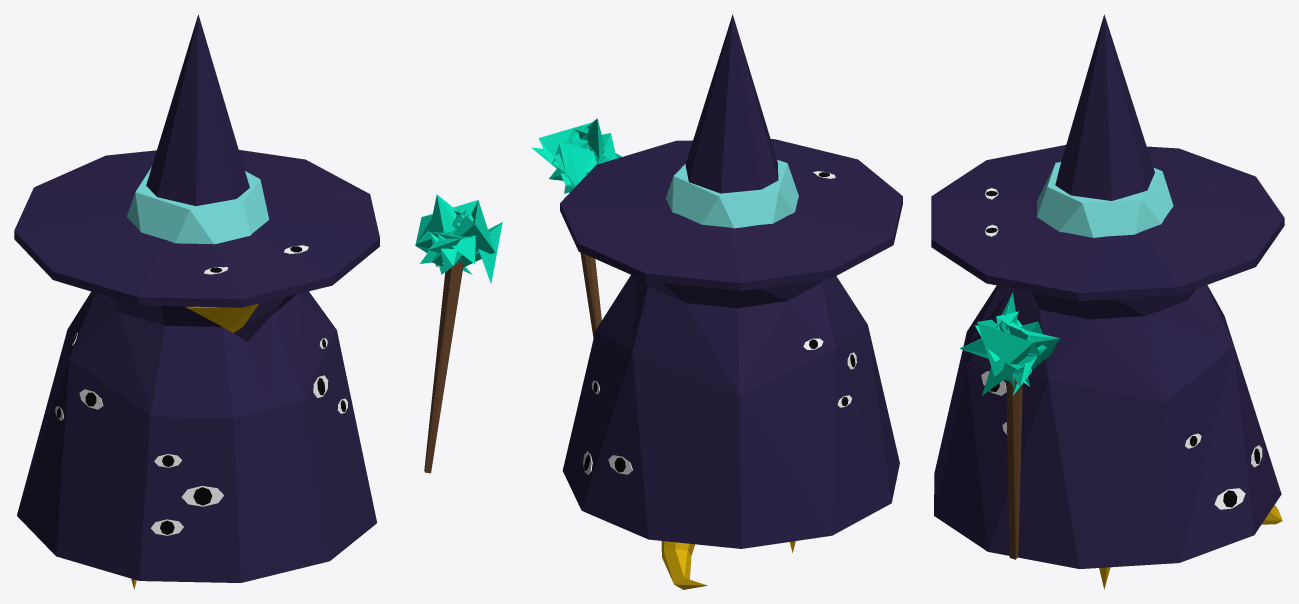
Rendered from Wizard_Final_NoAnim.fbx.
The picture shows the model from 3 angles, left to right: view 1: azimuth 30°, elevation 25°; view 2: azimuth 150°, elevation 25°; view 3: azimuth 270°, elevation 25°; orthographic projection. The views are drawn at different scales.
Parts seen in each view (by area): view 1: Wizard; view 2: Wizard; view 3: Wizard.
Boxes of the visible parts, bbox=[...] form: Wizard: bbox=[14, 14, 502, 589]; Wizard: bbox=[531, 14, 902, 589]; Wizard: bbox=[931, 14, 1284, 589].
Size of the model in its own units: 157 by 200 by 118.
